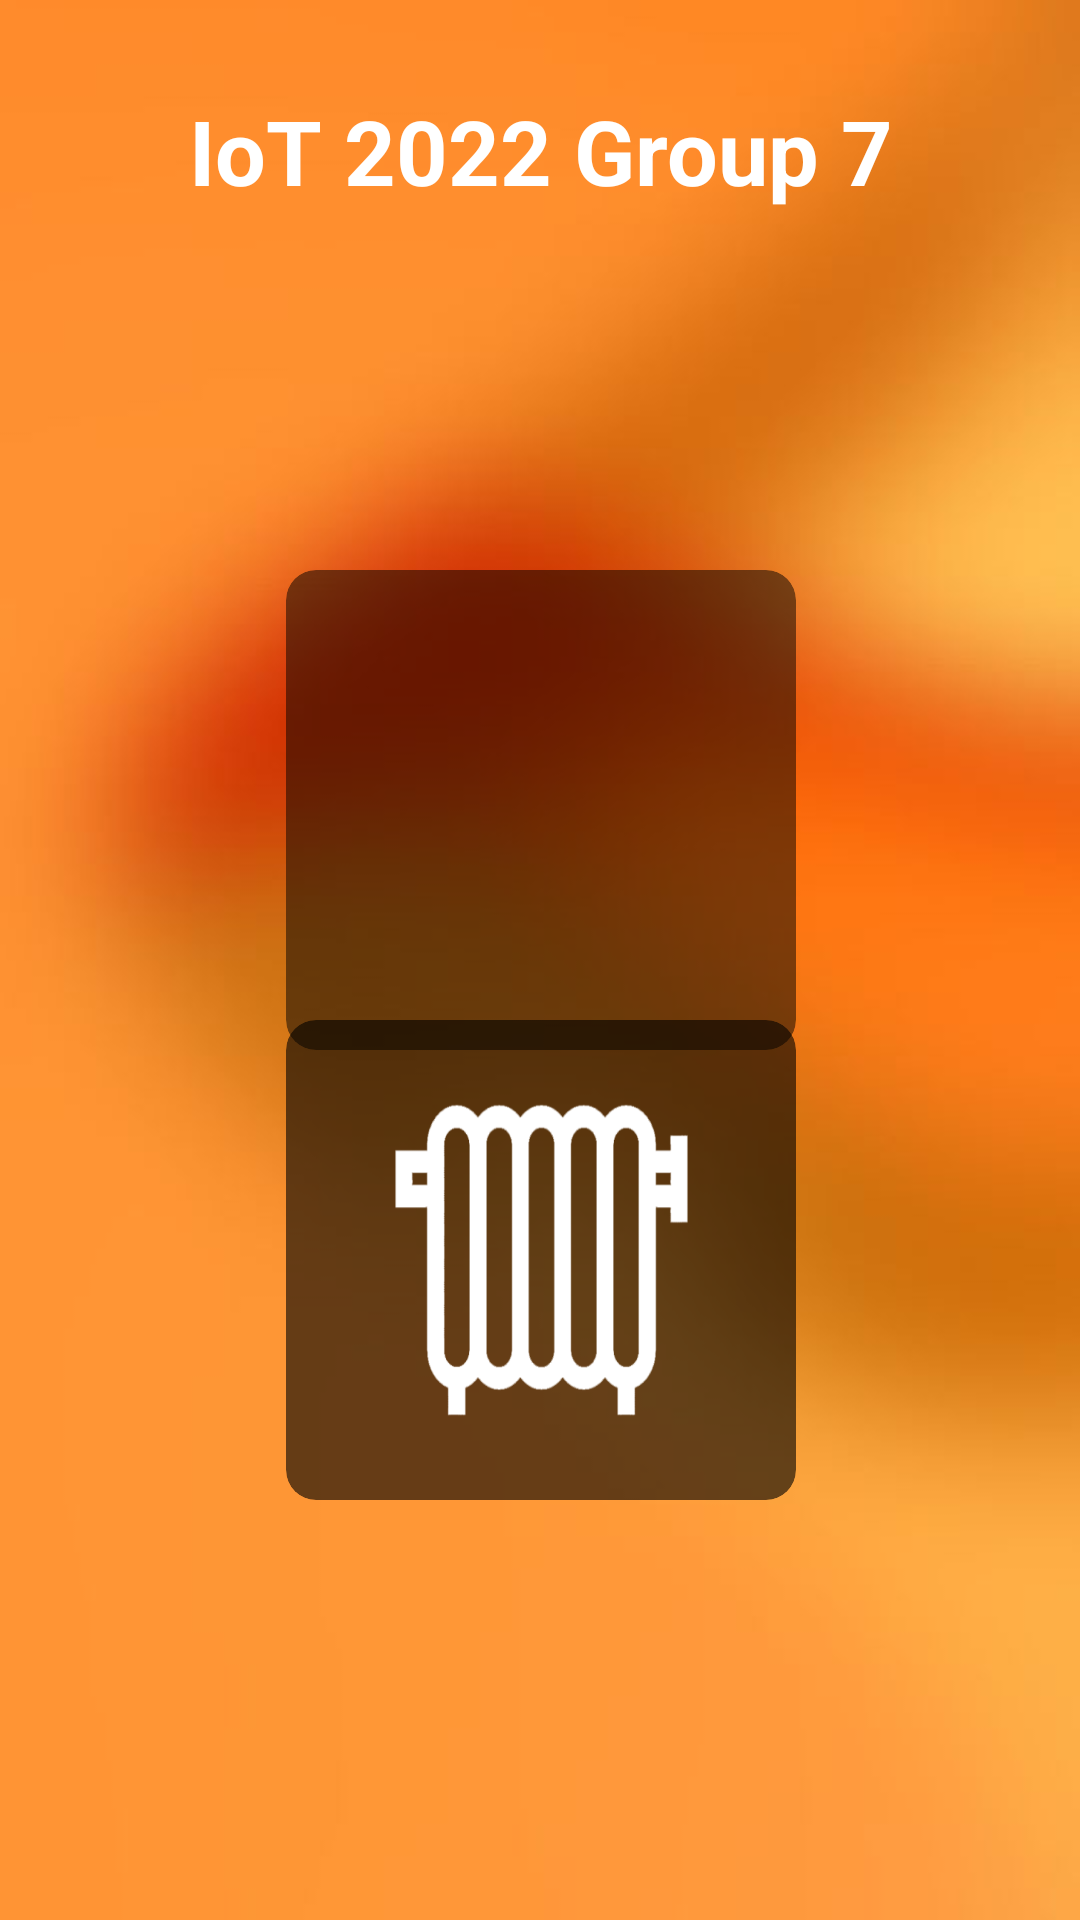

Icon bounding boxes for this 1080px×1920px phone screenshot, format (x1, y1, x2, y2):
heat: (395, 1105, 688, 1416)
